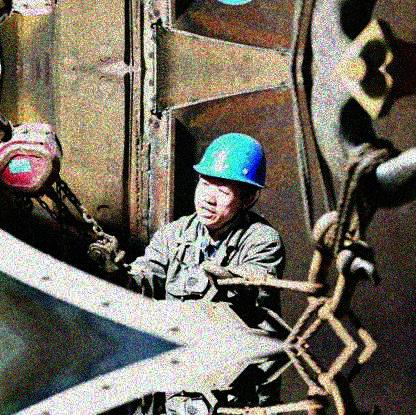helmet: (190, 132, 272, 230)
